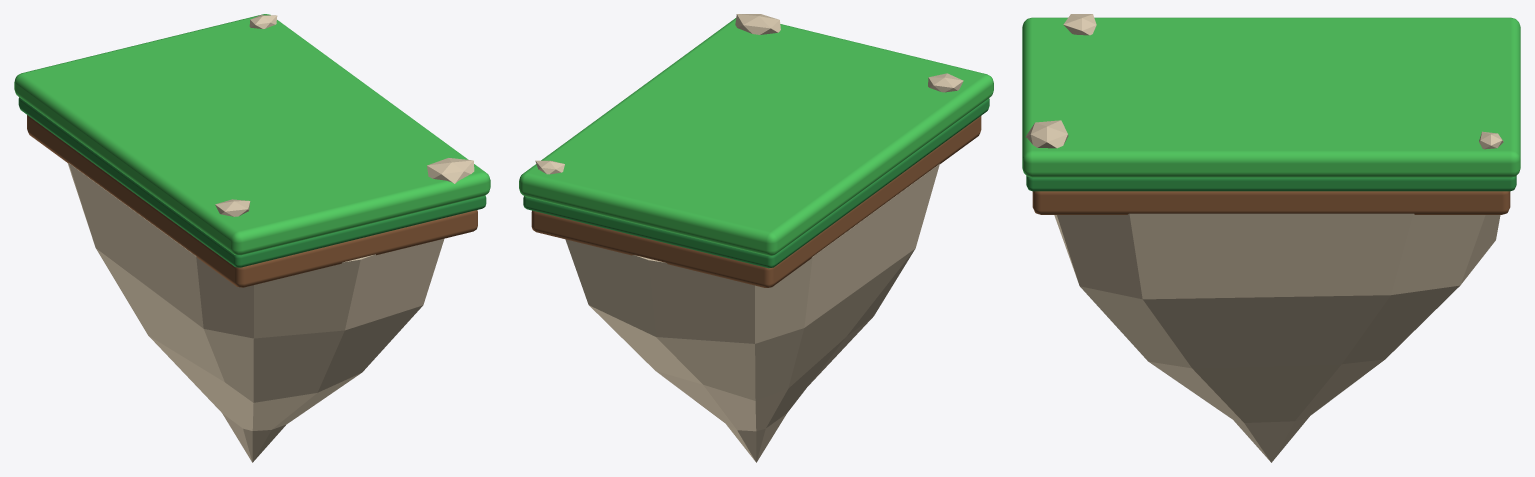
File: PLAT_Isle_M.glb
The picture shows the model from 3 angles, left to right: view 1: azimuth 30°, elevation 25°; view 2: azimuth 150°, elevation 25°; view 3: azimuth 270°, elevation 25°; orthographic projection. The views are drawn at different scales.
Parts seen in each view (by area): view 1: Top, Underside, Soil, TopLip, Pebble_2, Pebble_1; view 2: Top, Underside, Soil, TopLip, Pebble_2, Pebble_1; view 3: Top, Underside, Soil, TopLip, Pebble_2, Pebble_1.
Boxes of the visible parts, box(x1,y1,x2,y2) form: Top: box(14, 14, 490, 255); Underside: box(67, 163, 444, 462); Soil: box(27, 115, 477, 287); TopLip: box(18, 97, 486, 267); Pebble_2: box(427, 158, 474, 183); Pebble_1: box(215, 199, 250, 216); Top: box(519, 18, 993, 255); Underside: box(565, 164, 939, 462); Soil: box(531, 116, 981, 287); TopLip: box(523, 98, 989, 268); Pebble_2: box(735, 14, 780, 34); Pebble_1: box(928, 73, 963, 92); Top: box(1022, 17, 1520, 177); Underside: box(1054, 213, 1500, 462); Soil: box(1032, 191, 1510, 214); TopLip: box(1026, 176, 1516, 191); Pebble_2: box(1025, 120, 1068, 148); Pebble_1: box(1063, 14, 1096, 35).
Size of the model in its own units: 4 by 5.18 by 6.
